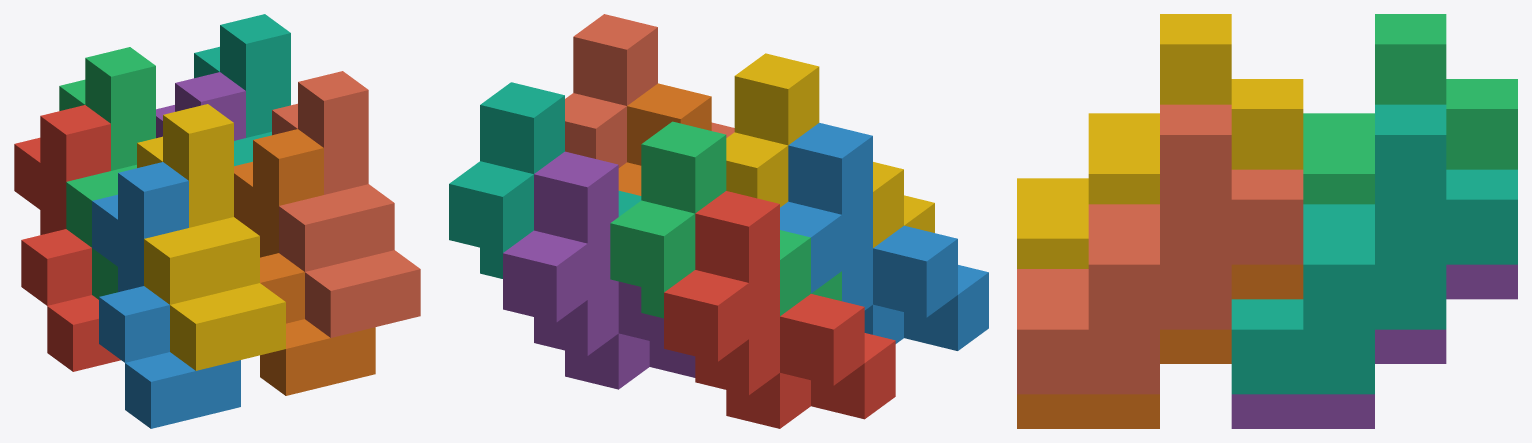
Rendered from tiling.obj.
3 views of the same model, side by side, from view 1: azimuth 30°, elevation 25°; view 2: azimuth 150°, elevation 25°; view 3: azimuth 270°, elevation 25° (orthographic). The views are drawn at different scales.
Visible parts, largest first — view 1: copy_1_domain_4, copy_1_domain_8, copy_1_domain_2, copy_1_domain_1, copy_1_domain_6, copy_1_domain_3, copy_1_domain_7, copy_1_domain_5; view 2: copy_1_domain_1, copy_1_domain_2, copy_1_domain_5, copy_1_domain_3, copy_1_domain_7, copy_1_domain_4, copy_1_domain_8, copy_1_domain_6; view 3: copy_1_domain_8, copy_1_domain_7, copy_1_domain_4, copy_1_domain_3, copy_1_domain_5, copy_1_domain_6.
Boxes of the visible parts, x1,y1,x2,y2 form: copy_1_domain_4: (137,104,285,370); copy_1_domain_8: (272,71,420,337); copy_1_domain_2: (92,162,240,428); copy_1_domain_1: (14,105,120,371); copy_1_domain_6: (234,129,375,395); copy_1_domain_3: (59,47,155,299); copy_1_domain_7: (194,14,290,166); copy_1_domain_5: (156,72,245,140); copy_1_domain_1: (664,191,895,428); copy_1_domain_2: (780,122,988,350); copy_1_domain_5: (503,151,695,389); copy_1_domain_3: (610,121,841,318); copy_1_domain_7: (449,82,641,278); copy_1_domain_4: (726,53,934,247); copy_1_domain_8: (565,14,734,167); copy_1_domain_6: (618,83,711,195); copy_1_domain_8: (1017,104,1303,394); copy_1_domain_7: (1231,104,1517,394); copy_1_domain_4: (1017,14,1303,268); copy_1_domain_3: (1303,14,1517,204); copy_1_domain_5: (1231,264,1517,428); copy_1_domain_6: (1017,264,1303,428).
Bounding box in the file's own units: 6 × 5 × 7.
